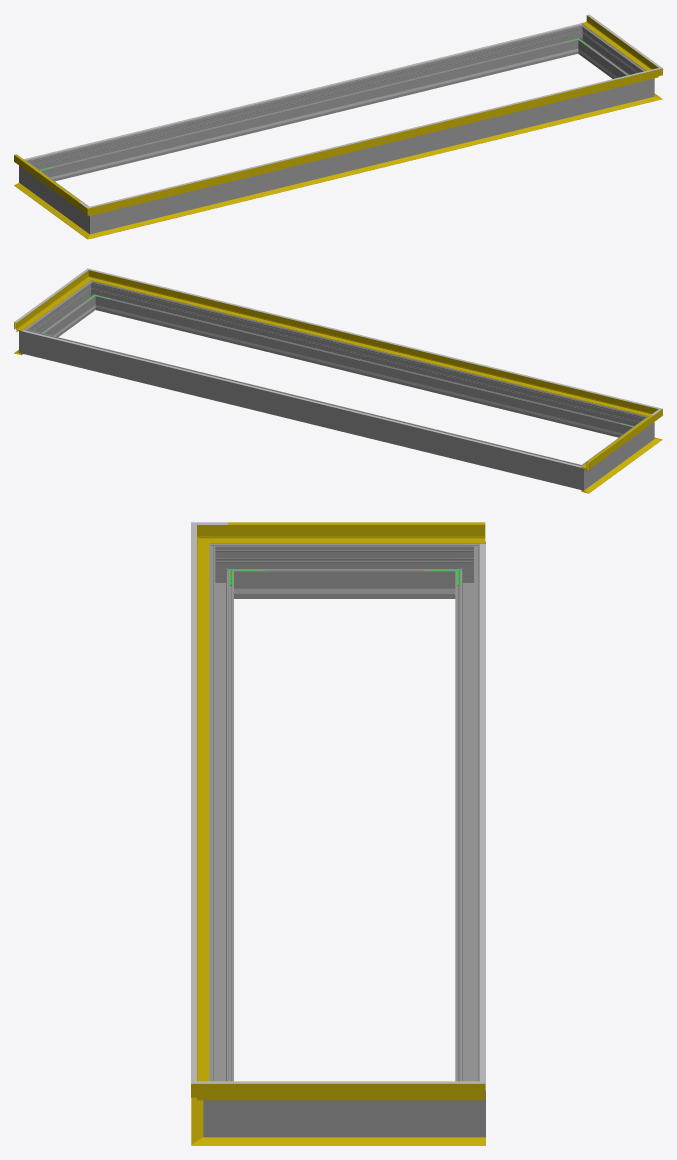
3 renders of one model, top to bottom at view 1: azimuth 30°, elevation 25°; view 2: azimuth 150°, elevation 25°; view 3: azimuth 270°, elevation 25°, orthographic. The views are drawn at different scales.
Parts seen in each view (by area): view 1: 3DGeom-276, 3DGeom-298, 3DGeom-56, 3DGeom-28, 3DGeom-244, 3DGeom-297, 3DGeom-220, 3DGeom-66, 3DGeom-268, 3DGeom-58, 3DGeom-50, 3DGeom-270 (+2 smaller); view 2: 3DGeom-298, 3DGeom-276, 3DGeom-56, 3DGeom-239, 3DGeom-297, 3DGeom-220, 3DGeom-66, 3DGeom-268, 3DGeom-58, 3DGeom-278, 3DGeom-50, 3DGeom-38 (+2 smaller); view 3: 3DGeom-298, 3DGeom-276, 3DGeom-268, 3DGeom-297, 3DGeom-56, 3DGeom-50, 3DGeom-58, 3DGeom-220, 3DGeom-66, 3DGeom-30, 3DGeom-284, 3DGeom-290 (+3 smaller).
Boxes of the visible parts, <box> form: 3DGeom-276: <box>36,27,575,181</box>; 3DGeom-298: <box>106,82,638,230</box>; 3DGeom-56: <box>102,72,646,212</box>; 3DGeom-28: <box>101,99,646,235</box>; 3DGeom-244: <box>55,52,562,178</box>; 3DGeom-297: <box>579,30,642,78</box>; 3DGeom-220: <box>24,23,581,160</box>; 3DGeom-66: <box>102,71,646,204</box>; 3DGeom-268: <box>28,166,85,227</box>; 3DGeom-58: <box>581,15,650,70</box>; 3DGeom-50: <box>14,155,78,208</box>; 3DGeom-270: <box>80,204,105,234</box>; 3DGeom-298: <box>98,284,636,437</box>; 3DGeom-276: <box>35,332,570,486</box>; 3DGeom-56: <box>99,273,645,414</box>; 3DGeom-239: <box>111,308,618,434</box>; 3DGeom-297: <box>31,286,93,336</box>; 3DGeom-220: <box>22,330,581,467</box>; 3DGeom-66: <box>102,272,646,405</box>; 3DGeom-268: <box>588,422,645,483</box>; 3DGeom-58: <box>14,276,85,331</box>; 3DGeom-278: <box>568,460,592,490</box>; 3DGeom-50: <box>581,416,653,471</box>; 3DGeom-38: <box>581,443,653,493</box>; 3DGeom-298: <box>209,557,233,1081</box>; 3DGeom-276: <box>455,557,479,1081</box>; 3DGeom-268: <box>240,544,449,598</box>; 3DGeom-297: <box>240,1100,449,1137</box>; 3DGeom-56: <box>197,550,209,1081</box>; 3DGeom-50: <box>227,525,485,543</box>; 3DGeom-58: <box>227,1083,485,1100</box>; 3DGeom-220: <box>480,543,485,1090</box>; 3DGeom-66: <box>191,538,196,1068</box>; 3DGeom-30: <box>228,1137,485,1145</box>; 3DGeom-284: <box>449,1077,485,1137</box>; 3DGeom-290: <box>203,1077,239,1137</box>.
Size of the model in its own units: 5.49 by 0.2831 by 1.22.
